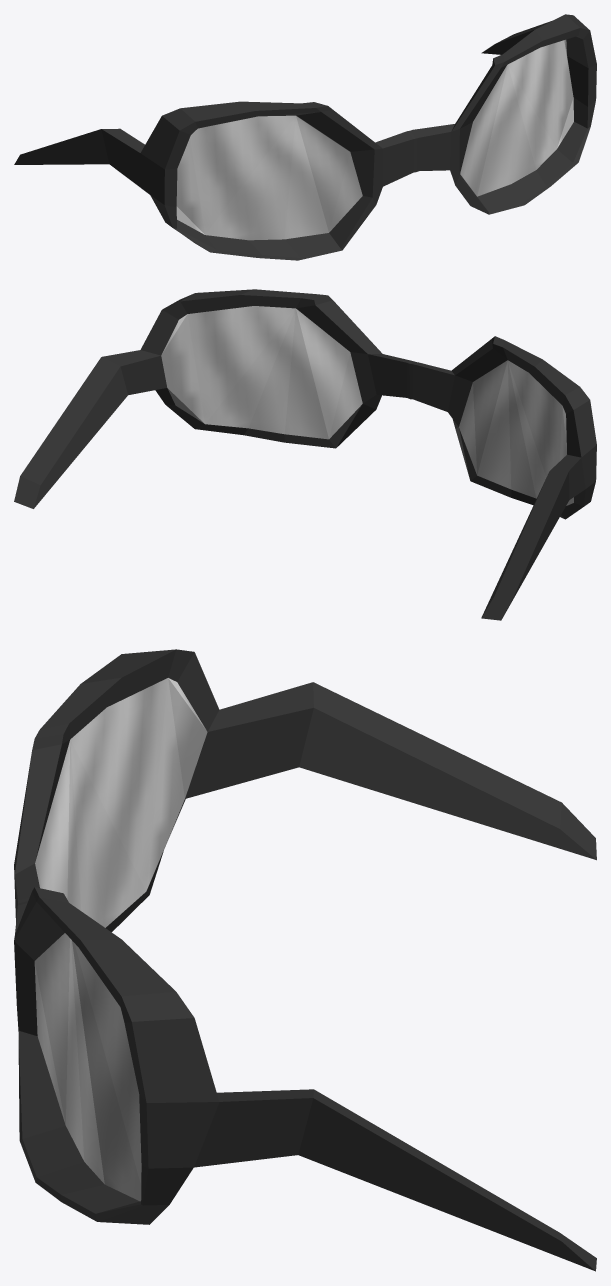
File: 反光镜.fbx
The picture shows the model from 3 angles, top to bottom: view 1: azimuth 30°, elevation 25°; view 2: azimuth 150°, elevation 25°; view 3: azimuth 270°, elevation 25°; orthographic projection. The views are drawn at different scales.
Visible parts, largest first — view 1: 立方体; view 2: 立方体; view 3: 立方体.
Boxes of the visible parts, x1,y1,x2,y2 form: 立方体: (14,14,596,260); 立方体: (14,289,596,620); 立方体: (14,649,596,1271).
Bounding box in the file's own units: 0.5282 × 0.1533 × 0.2964.
